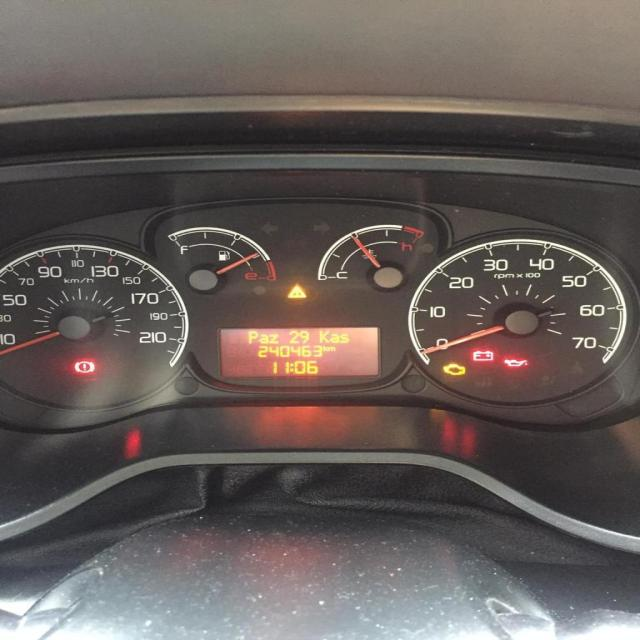odometer: (212, 322, 382, 379)
